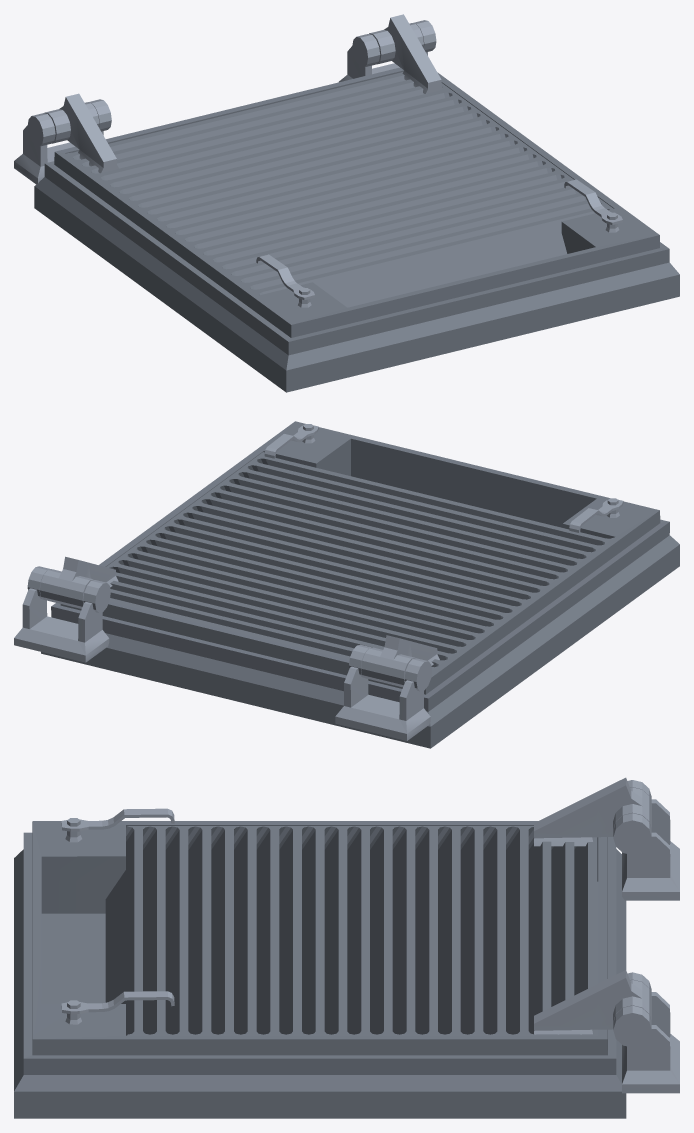
Rendered from board_003_type87-arv.fbx.
The picture shows the model from 3 angles, top to bottom: view 1: azimuth 30°, elevation 25°; view 2: azimuth 150°, elevation 25°; view 3: azimuth 270°, elevation 25°; orthographic projection. The views are drawn at different scales.
Parts seen in each view (by area): view 1: board.003.type87-arv; view 2: board.003.type87-arv; view 3: board.003.type87-arv.
Part boxes in pixels (x1,y1,x2,y2): board.003.type87-arv: (14, 14, 679, 392); board.003.type87-arv: (14, 421, 679, 748); board.003.type87-arv: (14, 777, 679, 1118).
Bounding box in the file's own units: 0.9623 × 0.2395 × 1.15.
